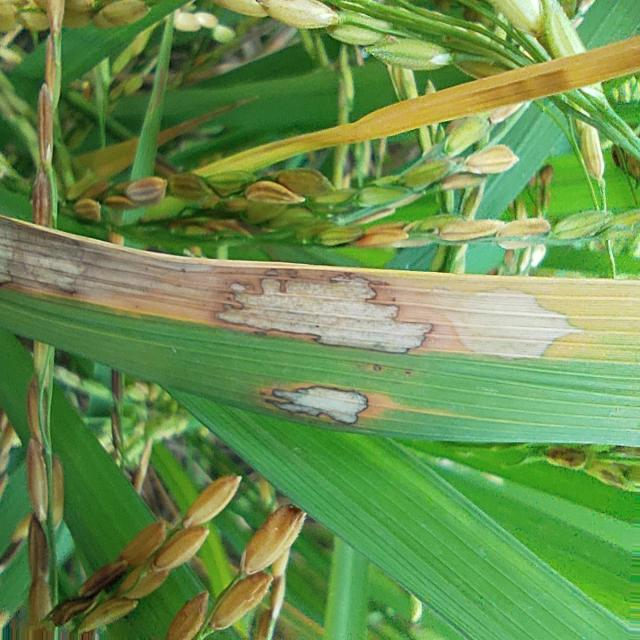Leaf_Blast: (195, 37, 640, 177)
Rice False Smut: (218, 275, 431, 353), (436, 292, 576, 358), (0, 217, 108, 302), (272, 387, 368, 424)
